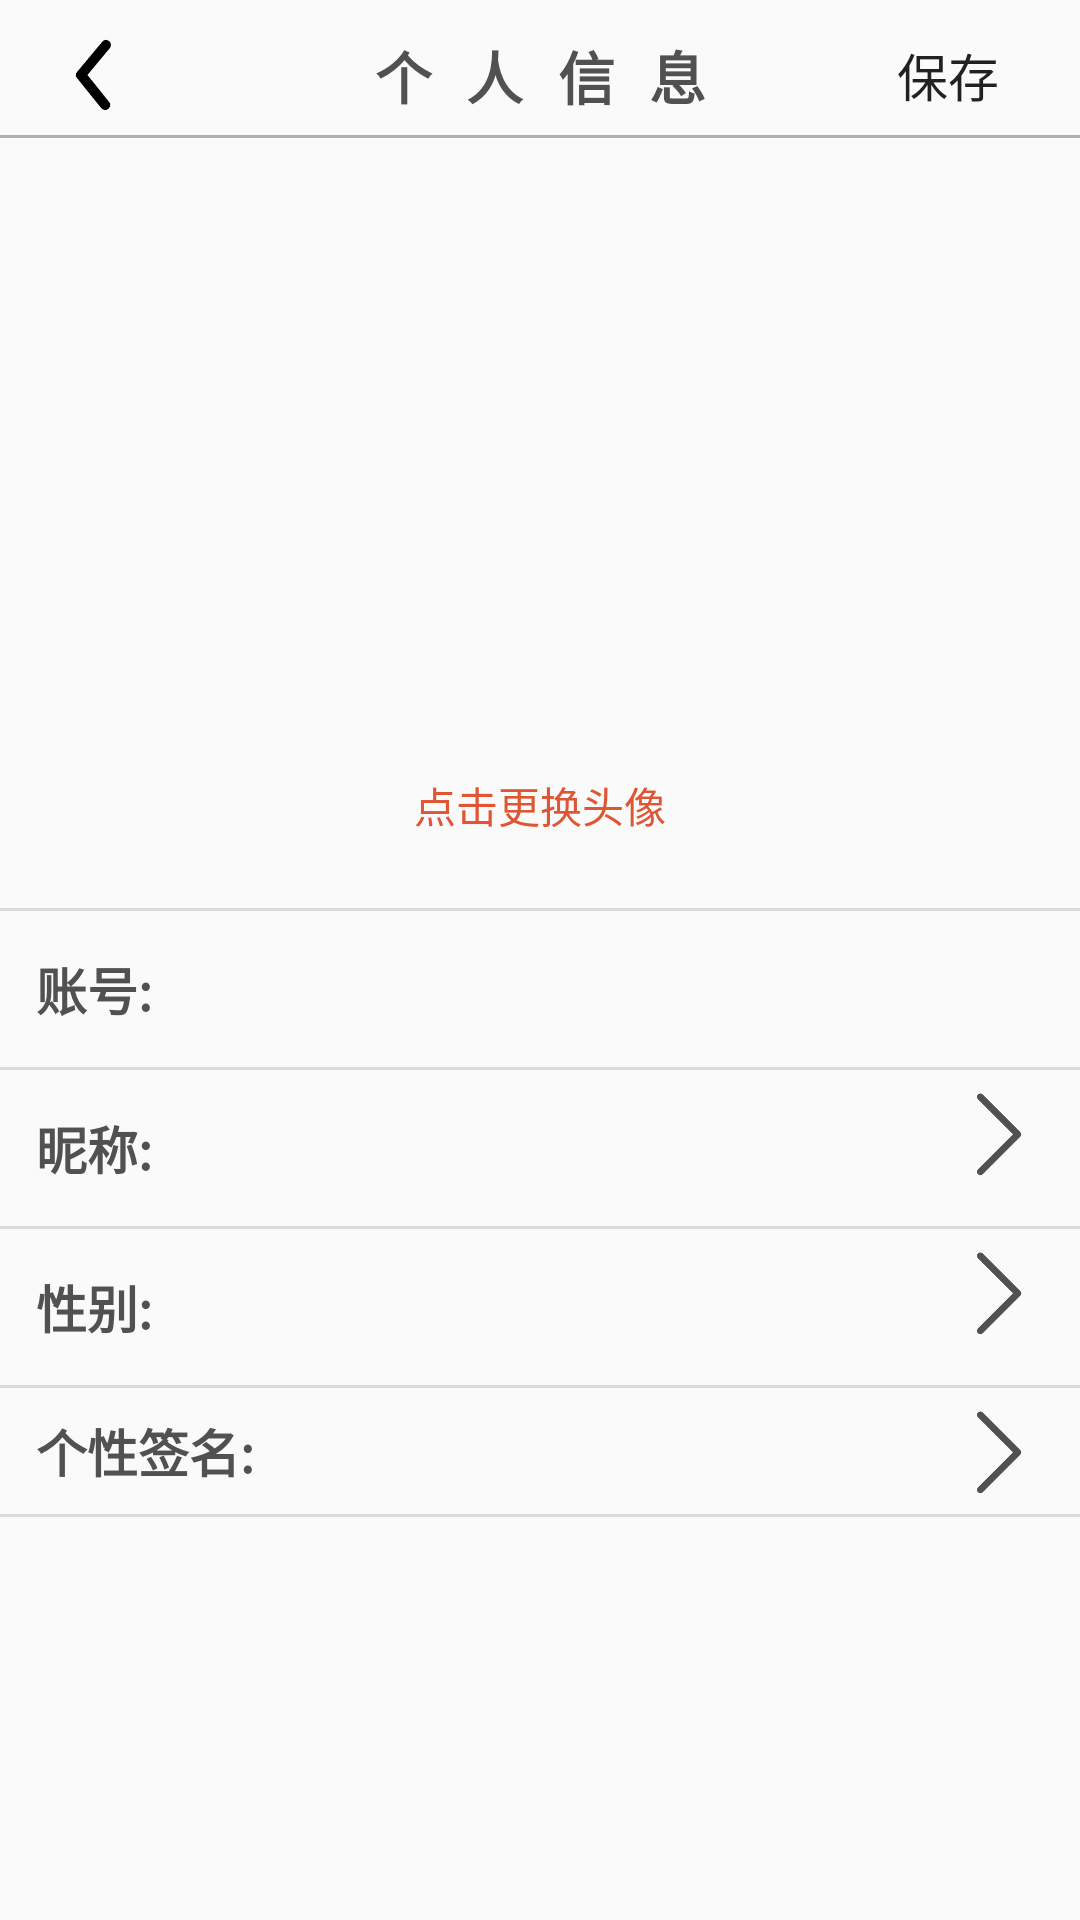

Icon click points for this 1080px x 1920px phone screenshot, format (x=x, y=y):
back: (x=93, y=75)
right: (x=999, y=1134), (x=999, y=1293), (x=999, y=1452)
